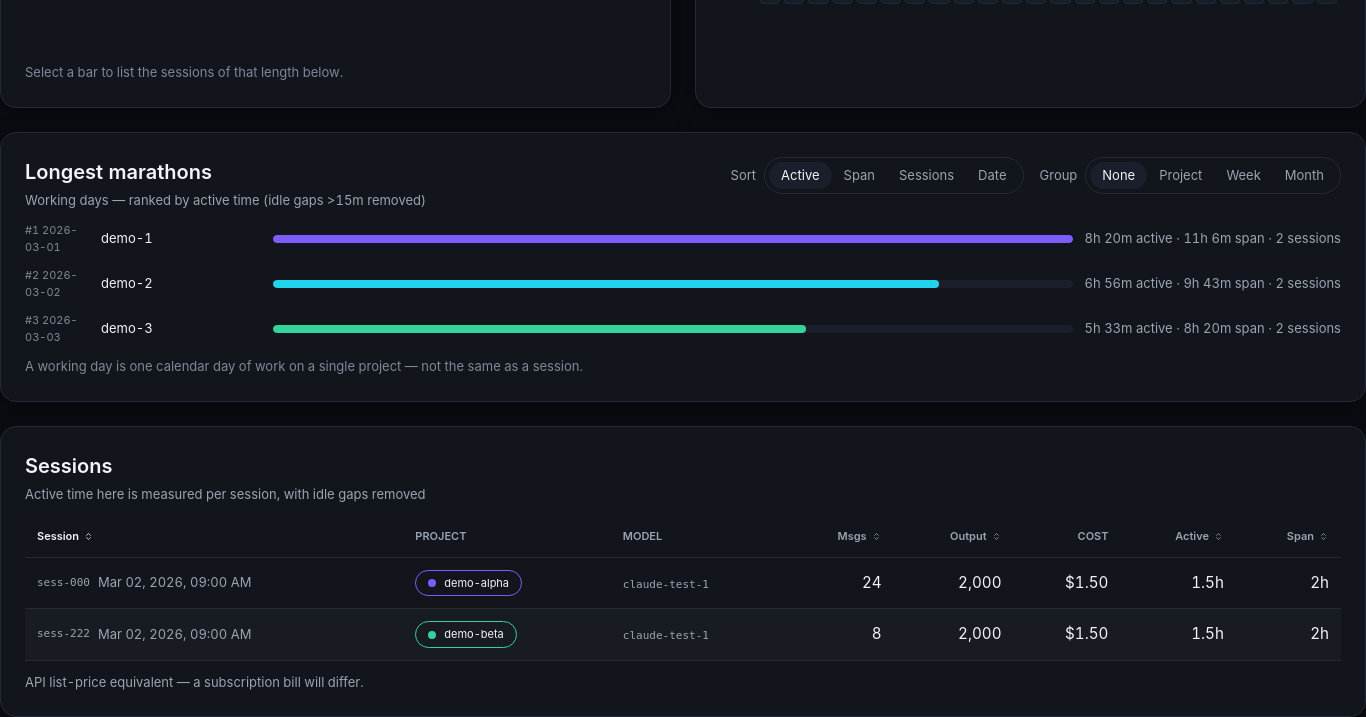
Test: §6.5 Sessions & Time — the table › keeps the last good page and shows a retry strip when the query fails (§6.5)
The width and height of the screenshot is (1366, 717).
(page scrolled)
Expected: the table with test id "sessions-table" is shown, [25,516,1341,661]
Click the button "Span": (1308, 537) [1287,528,1329,545]
(page scrolled)
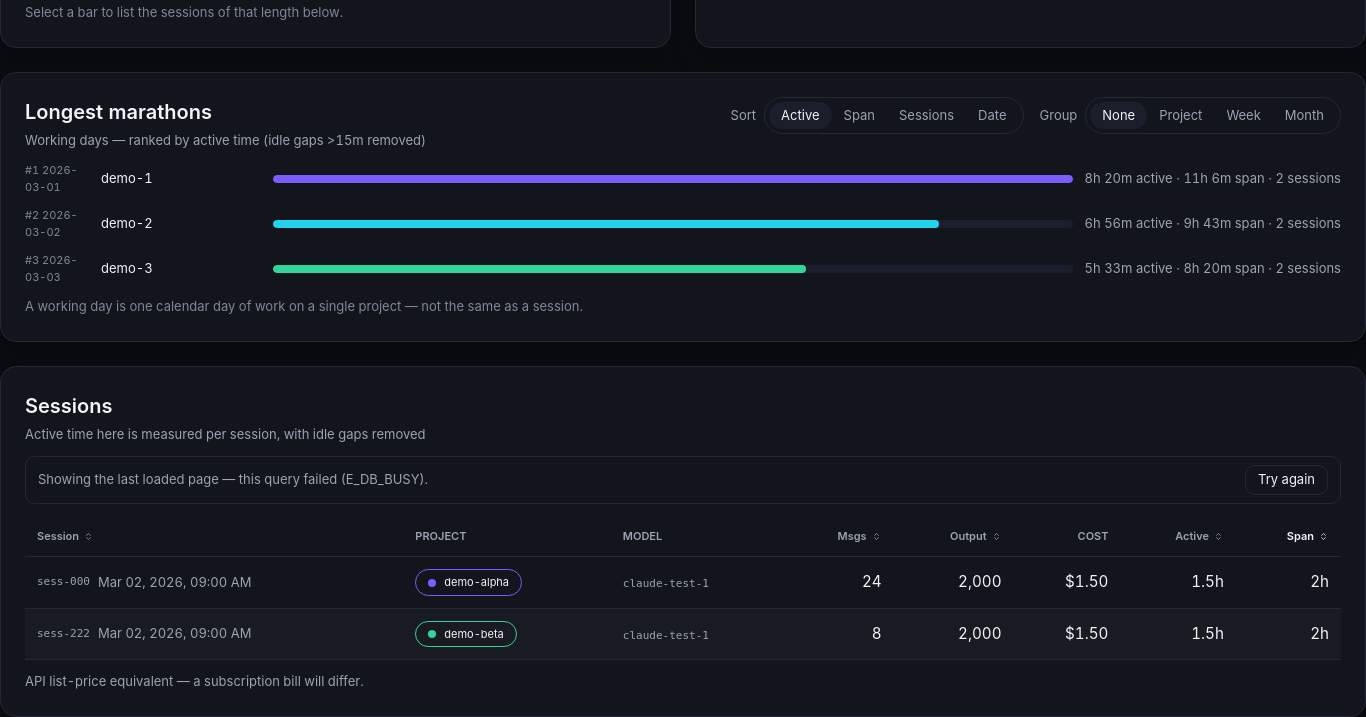
Expected: the table with test id "sessions-table" is shown, [25,516,1341,660]
Now the message with test id "sessions-retry-strip" shows "E_DB_BUSY", box [346,471,420,487]
